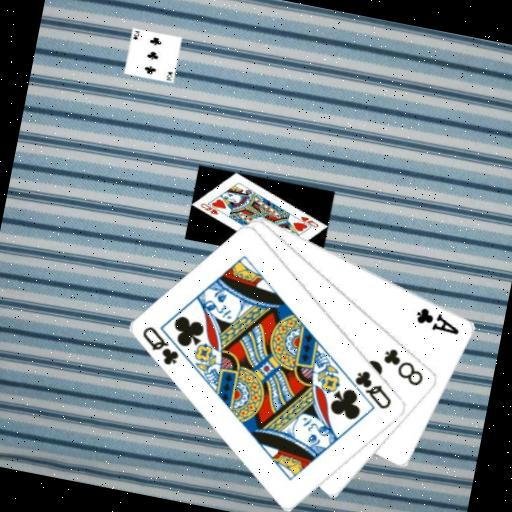8C: (377, 343, 430, 389)
AC: (411, 302, 465, 337)
QC: (347, 365, 399, 413), (134, 322, 186, 370)
